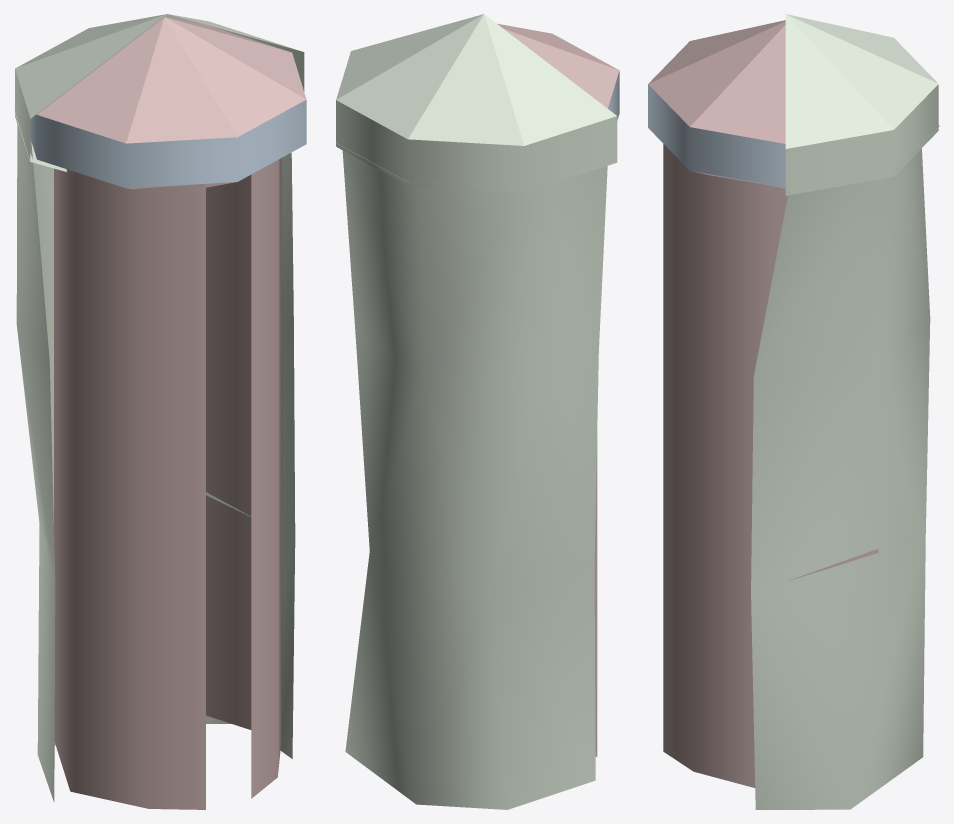
3 renders of one model, left to right at view 1: azimuth 30°, elevation 25°; view 2: azimuth 150°, elevation 25°; view 3: azimuth 270°, elevation 25°, orthographic. The views are drawn at different scales.
Parts seen in each view (by area): view 1: Object54; view 2: Object54; view 3: Object54.
Boxes of the visible parts, x1=… form: Object54: x1=14, y1=14, x2=306, y2=809; Object54: x1=335, y1=14, x2=619, y2=809; Object54: x1=648, y1=14, x2=939, y2=809.
Size of the model in its own units: 12465 by 33113 by 11784.
